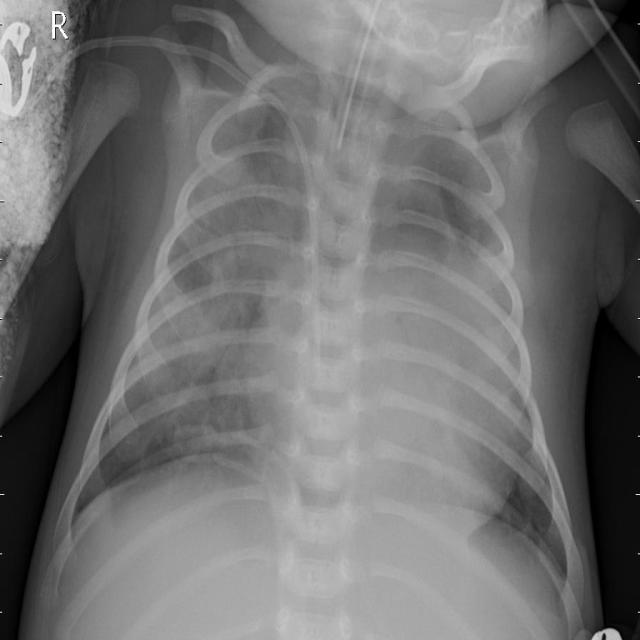low-pneumonia: (136, 274, 241, 432), (372, 120, 462, 266), (191, 165, 280, 308)
